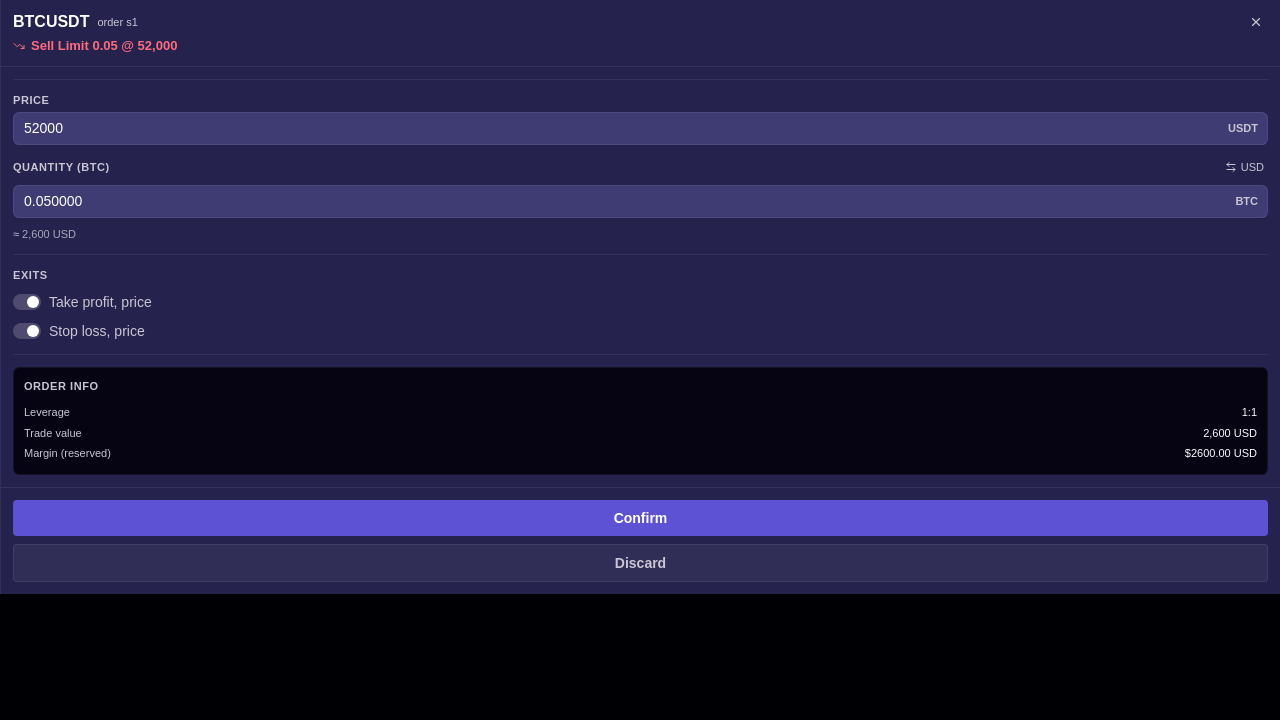
Test case: PendingOrderEditPanel › a spot sell is limited by coins, and says so in coins (PR #136)
Replace the text in the number field showing "0.050000" with "1" at coordinates (640, 202), box [13,185,1268,218]
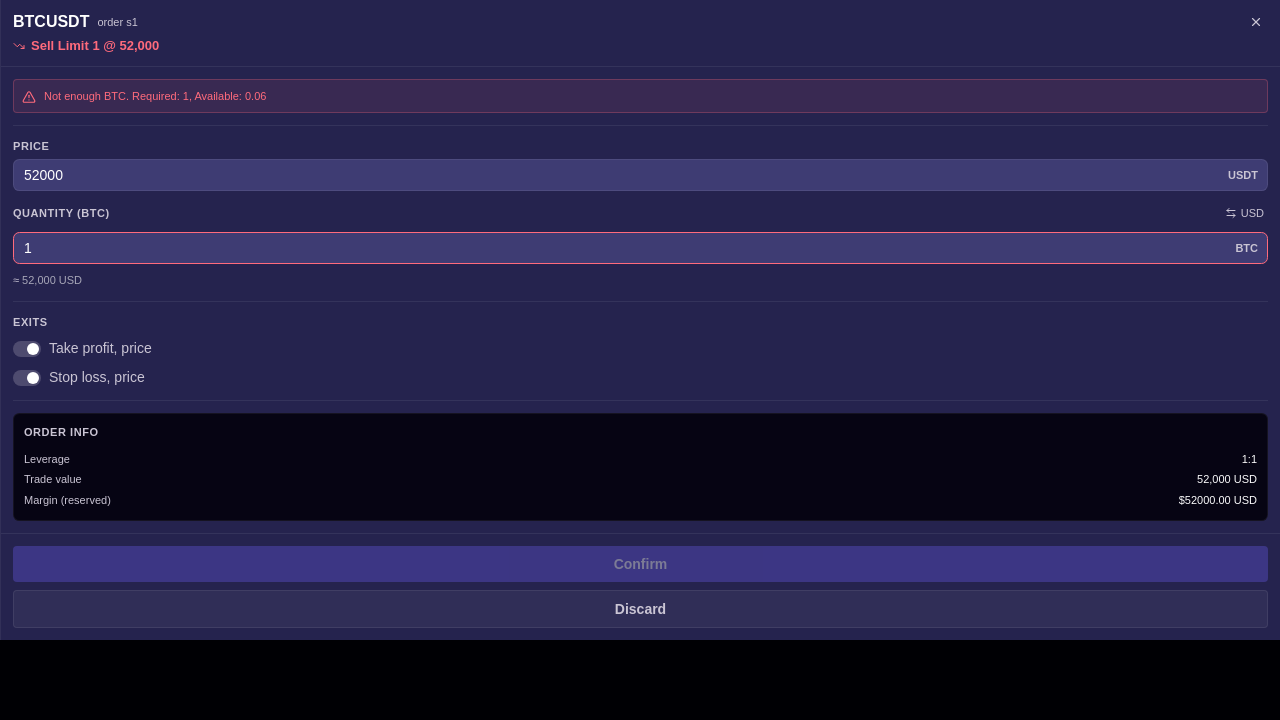
Expected: the text "Not enough BTC" does not show "$"
Result: the text "Not enough BTC. Required: 1, Available: 0.06" is shown at [44,88,266,104]
